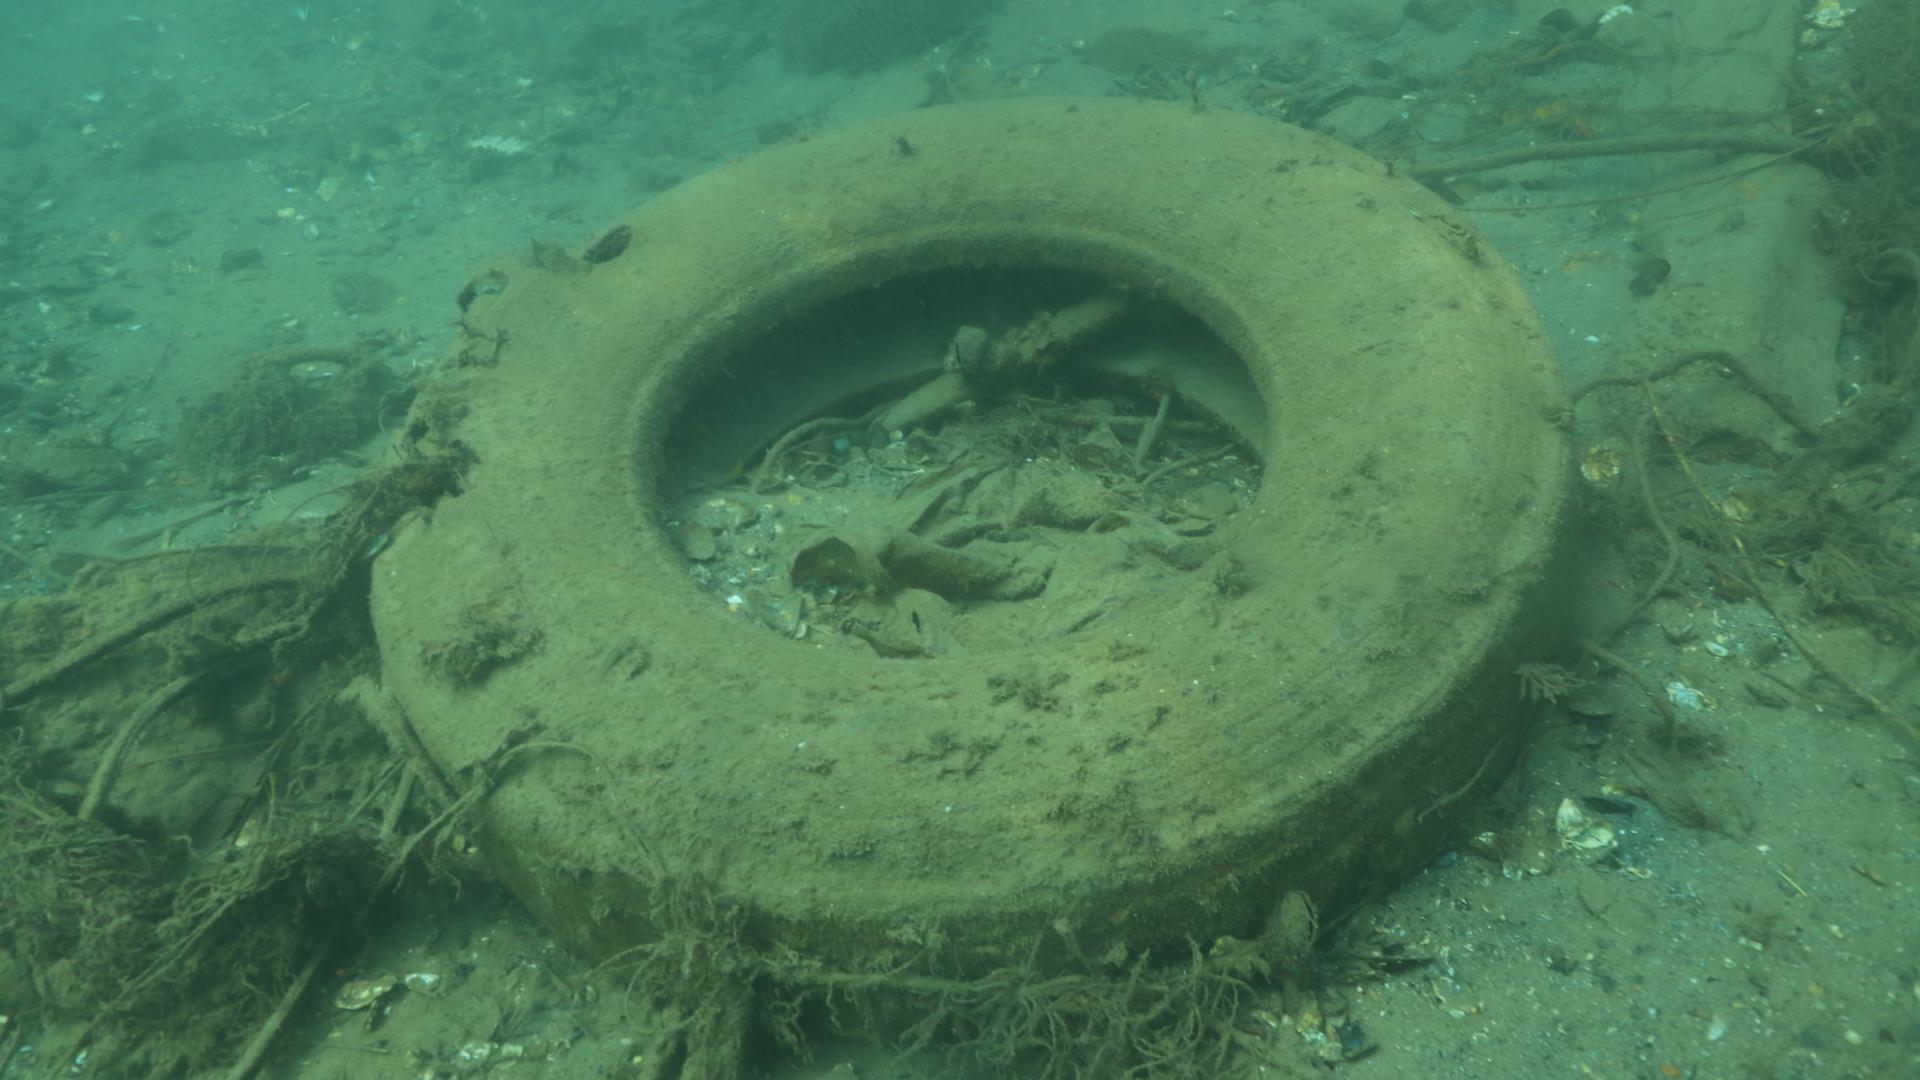tire: (367, 91, 1581, 1033)
